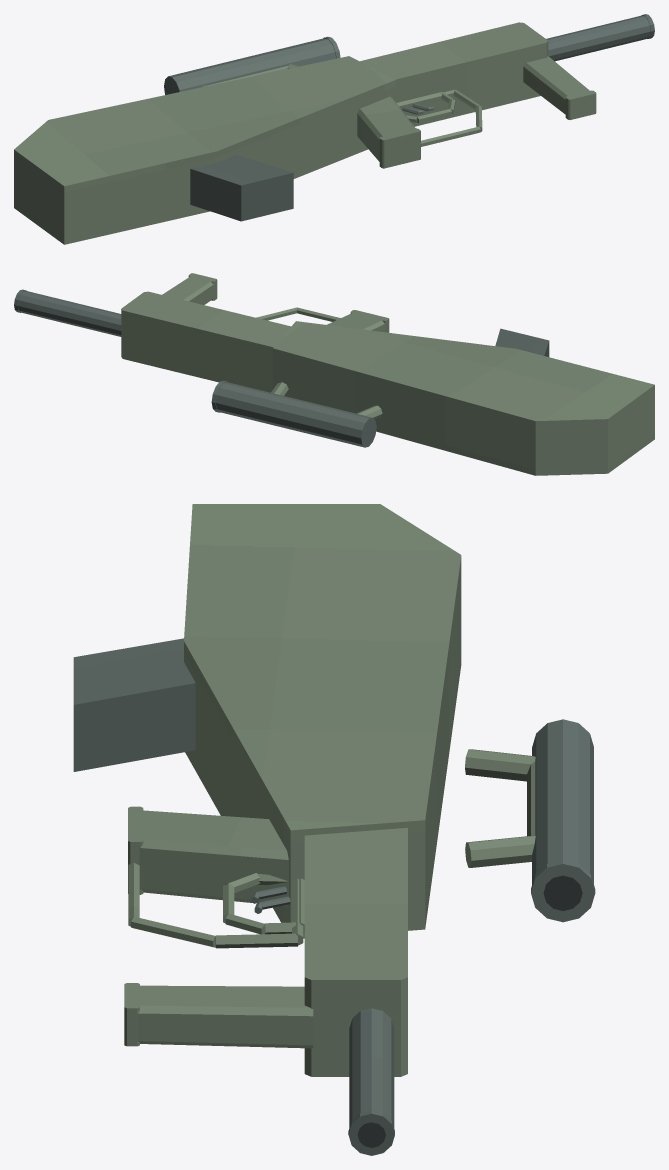
File: weapon-aug.glb
3 renders of one model, top to bottom at view 1: azimuth 30°, elevation 25°; view 2: azimuth 150°, elevation 25°; view 3: azimuth 270°, elevation 25°, orthographic. The views are drawn at different scales.
Visible parts, largest first — view 1: weapon-aug/continuous-bullpup-body, weapon-aug/independent-forehandguard, weapon-aug/distinct-detachable-magazine, weapon-aug/top-fixed-optical-shape, weapon-aug/round-barrel, weapon-aug/distinct-eight-sided-pistol-grip, weapon-aug/front-folding-grip, weapon-aug/distinct-eight-sided-pistol-grip-heel, weapon-aug/front-folding-grip-heel, weapon-aug/large-open-bullpup-hand-loop-4; view 2: weapon-aug/continuous-bullpup-body, weapon-aug/independent-forehandguard, weapon-aug/top-fixed-optical-shape, weapon-aug/round-barrel, weapon-aug/front-folding-grip, weapon-aug/distinct-detachable-magazine, weapon-aug/distinct-eight-sided-pistol-grip; view 3: weapon-aug/continuous-bullpup-body, weapon-aug/independent-forehandguard, weapon-aug/distinct-detachable-magazine, weapon-aug/distinct-eight-sided-pistol-grip, weapon-aug/front-folding-grip, weapon-aug/top-fixed-optical-shape, weapon-aug/round-barrel, weapon-aug/top-fixed-optical-shape-end-rim, weapon-aug/open-carry-handle-3, weapon-aug/open-carry-handle-1, weapon-aug/round-barrel-end-rim, weapon-aug/large-open-bullpup-hand-loop-2 (+2 smaller).
Part boxes in pixels (x1,y1,x2,y2): weapon-aug/continuous-bullpup-body: (14, 56, 396, 244); weapon-aug/independent-forehandguard: (360, 22, 548, 126); weapon-aug/distinct-detachable-magazine: (190, 154, 293, 221); weapon-aug/top-fixed-optical-shape: (164, 38, 335, 94); weapon-aug/round-barrel: (546, 15, 650, 61); weapon-aug/distinct-eight-sided-pistol-grip: (357, 96, 415, 161); weapon-aug/front-folding-grip: (523, 56, 591, 114); weapon-aug/distinct-eight-sided-pistol-grip-heel: (379, 128, 420, 168); weapon-aug/front-folding-grip-heel: (565, 90, 596, 119); weapon-aug/large-open-bullpup-hand-loop-4: (420, 126, 480, 146); weapon-aug/continuous-bullpup-body: (273, 321, 654, 475); weapon-aug/independent-forehandguard: (121, 291, 290, 392); weapon-aug/top-fixed-optical-shape: (215, 382, 376, 447); weapon-aug/round-barrel: (18, 291, 121, 336); weapon-aug/front-folding-grip: (162, 275, 213, 304); weapon-aug/distinct-detachable-magazine: (495, 328, 549, 356); weapon-aug/distinct-eight-sided-pistol-grip: (327, 312, 384, 332); weapon-aug/continuous-bullpup-body: (184, 504, 461, 938); weapon-aug/independent-forehandguard: (304, 827, 407, 1076); weapon-aug/distinct-detachable-magazine: (73, 638, 195, 771); weapon-aug/distinct-eight-sided-pistol-grip: (135, 810, 288, 906); weapon-aug/front-folding-grip: (132, 985, 313, 1048); weapon-aug/top-fixed-optical-shape: (532, 719, 593, 884); weapon-aug/round-barrel: (349, 1008, 394, 1127); weapon-aug/top-fixed-optical-shape-end-rim: (531, 860, 595, 922); weapon-aug/open-carry-handle-3: (465, 835, 535, 867); weapon-aug/open-carry-handle-1: (465, 749, 535, 781); weapon-aug/round-barrel-end-rim: (348, 1110, 394, 1155); weapon-aug/large-open-bullpup-hand-loop-2: (215, 933, 297, 948).
Size of the model in its own units: 0.7915 by 0.07 by 0.3027.
Materials: 3 (3 with a texture image).
